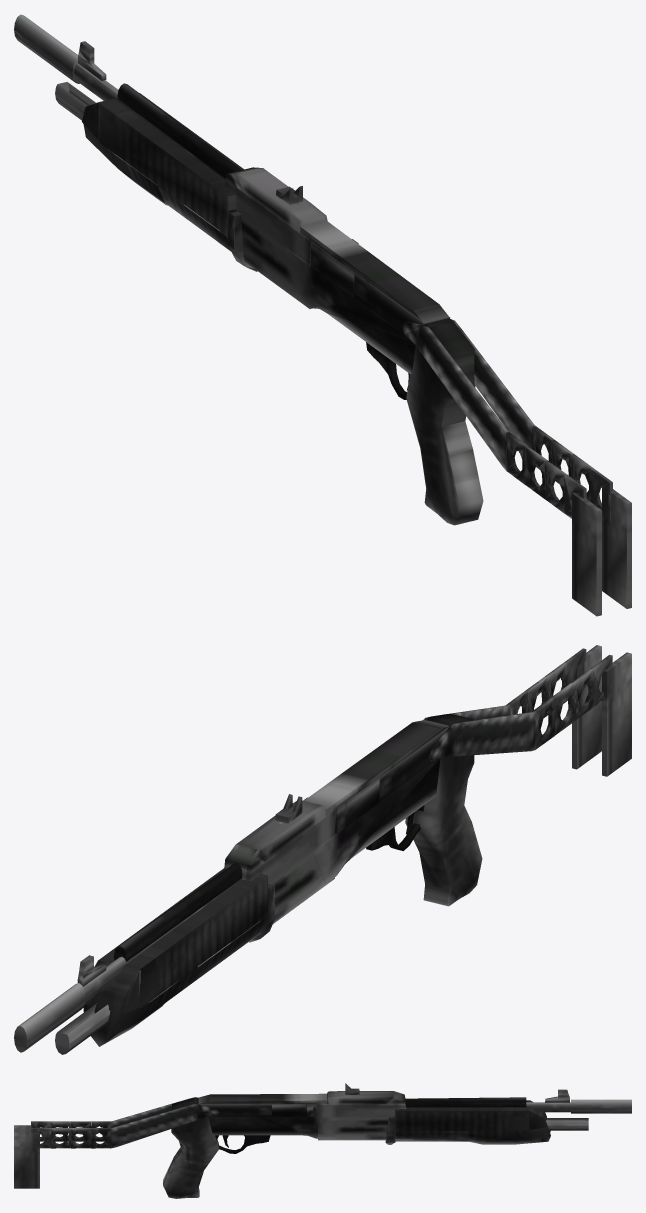
Rendered from SPAS_world.fbx.
3 views of the same model, one above another, from view 1: azimuth 30°, elevation 25°; view 2: azimuth 150°, elevation 25°; view 3: azimuth 270°, elevation 25° (orthographic). The views are drawn at different scales.
Parts seen in each view (by area): view 1: SPASStock, SPASBody, SPASPump, SPASGrip, SPASBarrels, SPASSight, SPASBolt; view 2: SPASBody, SPASStock, SPASPump, SPASGrip, SPASBarrels, SPASSight, SPASBolt, SPASTrigger; view 3: SPASBody, SPASStock, SPASPump, SPASGrip, SPASBarrels, SPASSight, SPASBolt, SPASTrigger.
Boxes of the visible parts, box(x1,y1,x2,y2) form: SPASStock: box(402, 319, 631, 616); SPASBody: box(218, 167, 450, 374); SPASPump: box(82, 93, 257, 271); SPASGrip: box(406, 318, 483, 525); SPASBarrels: box(14, 14, 225, 179); SPASSight: box(78, 41, 302, 205); SPASBolt: box(311, 239, 358, 297); SPASBody: box(224, 719, 448, 945); SPASStock: box(424, 645, 631, 776); SPASPump: box(83, 868, 274, 1046); SPASGrip: box(405, 713, 482, 906); SPASBarrels: box(14, 878, 241, 1054); SPASSight: box(77, 794, 302, 986); SPASBolt: box(303, 777, 379, 833); SPASTrigger: box(366, 805, 424, 850); SPASBody: box(198, 1091, 412, 1140); SPASStock: box(14, 1097, 219, 1188); SPASPump: box(385, 1100, 550, 1144); SPASGrip: box(163, 1097, 218, 1198); SPASBarrels: box(526, 1099, 631, 1130); SPASSight: box(345, 1083, 569, 1107); SPASBolt: box(272, 1104, 315, 1116); SPASTrigger: box(215, 1135, 270, 1153).
Bounding box in the file's own units: 3.12 × 13.74 × 69.23.
Materials: 1 (1 with a texture image).
